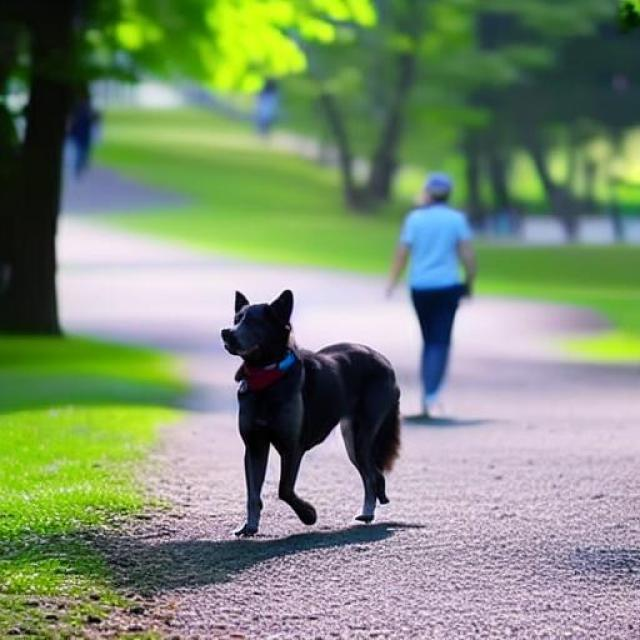Dog: (220, 289, 401, 538)
